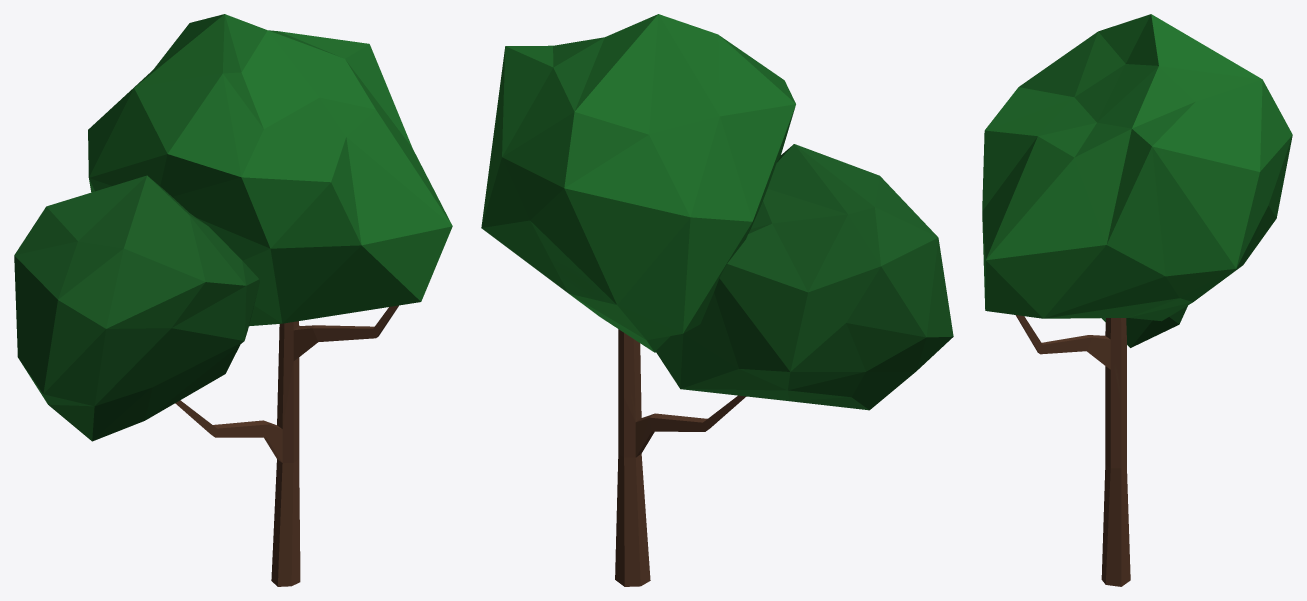
The model's file is mangosteen02__mesh_LOD.fbx.
3 views of the same model, side by side, from view 1: azimuth 30°, elevation 25°; view 2: azimuth 150°, elevation 25°; view 3: azimuth 270°, elevation 25° (orthographic). The views are drawn at different scales.
Parts seen in each view (by area): view 1: mangosteen02__mesh_LOD0; view 2: mangosteen02__mesh_LOD0; view 3: mangosteen02__mesh_LOD0.
Boxes of the visible parts, box(x1,y1,x2,y2) form: mangosteen02__mesh_LOD0: box(14, 14, 452, 586); mangosteen02__mesh_LOD0: box(481, 14, 953, 586); mangosteen02__mesh_LOD0: box(982, 14, 1292, 586).
Size of what is drawn, in the model's own units: 4121 by 5602 by 2888.
Materials: 3 (3 with a texture image).
